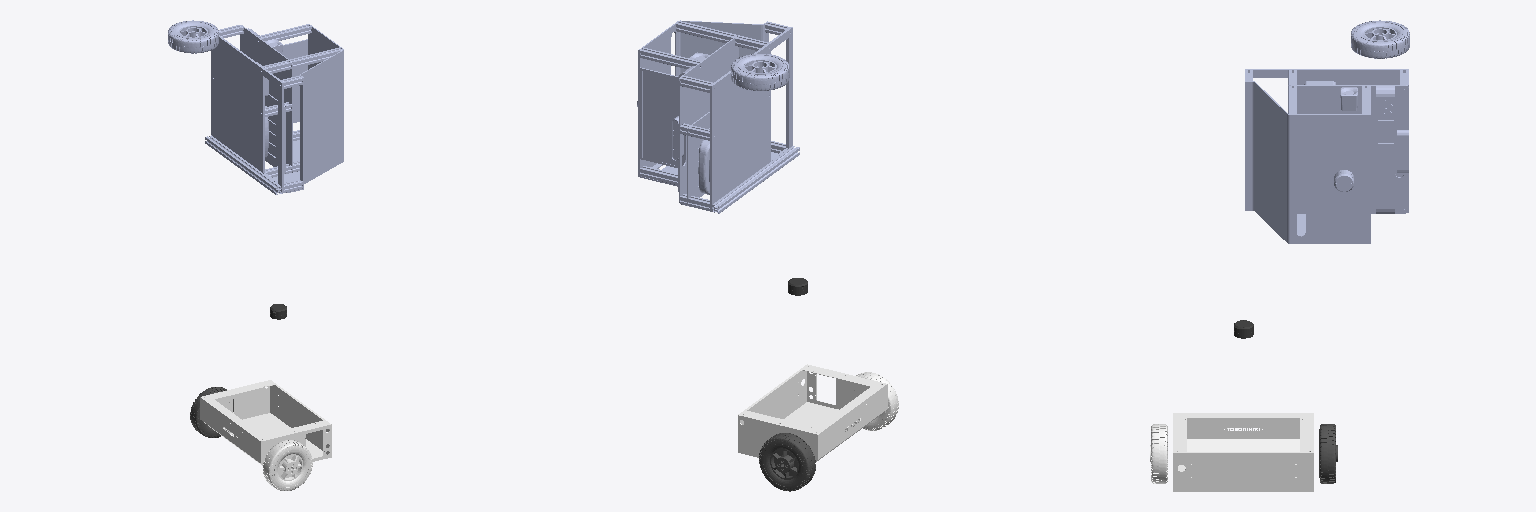
The robot description file, URDF, robot "capstone_0209_2":
<?xml version="1.0" encoding="utf-8"?>
<!-- This URDF was automatically created by SolidWorks to URDF Exporter! Originally created by [author] ([email redacted]) 
     Commit Version: 1.6.0-1-g15f4949  Build Version: 1.6.7594.29634
     For more information, please see http://wiki.ros.org/sw_urdf_exporter -->
<robot
  name="capstone_0209_2">
  <link
    name="base_footprint">
    <inertial>
      <origin
        xyz="0.000718233250103992 -0.660806871959596 0.111456433078517"
        rpy="0 0 0" />
      <mass
        value="0.712394955694314" />
      <inertia
        ixx="0.0242830224260077"
        ixy="-0.000403337009108569"
        ixz="0.000656127595395574"
        iyy="0.0132582035461794"
        iyz="-5.47726459298211E-05"
        izz="0.0327259426048953" />
    </inertial>
    <visual>
      <origin
        xyz="0 0 0"
        rpy="0 0 0" />
      <geometry>
        <mesh
          filename="package://capstone_0209_2/meshes/base_footprint.STL" />
      </geometry>
      <material
        name="">
        <color
          rgba="1 1 1 1" />
      </material>
    </visual>
    <collision>
      <origin
        xyz="0 0 0"
        rpy="0 0 0" />
      <geometry>
        <mesh
          filename="package://capstone_0209_2/meshes/base_footprint.STL" />
      </geometry>
    </collision>
  </link>
  <link
    name="base_link">
    <inertial>
      <origin
        xyz="-0.0238791749827691 -0.0185065102764362 -0.079020219576958"
        rpy="0 0 0" />
      <mass
        value="22.7007948034872" />
      <inertia
        ixx="0.223162335287752"
        ixy="-5.36786263693623E-05"
        ixz="0.000551927631217771"
        iyy="0.374073653310552"
        iyz="-0.0205701836042696"
        izz="0.234182466065195" />
    </inertial>
    <visual>
      <origin
        xyz="0 0 0"
        rpy="0 0 0" />
      <geometry>
        <mesh
          filename="package://capstone_0209_2/meshes/base_link.STL" />
      </geometry>
      <material
        name="">
        <color
          rgba="0.792156862745098 0.819607843137255 0.933333333333333 1" />
      </material>
    </visual>
    <collision>
      <origin
        xyz="0 0 0"
        rpy="0 0 0" />
      <geometry>
        <mesh
          filename="package://capstone_0209_2/meshes/base_link.STL" />
      </geometry>
    </collision>
  </link>
  <joint
    name="base_link_joint"
    type="fixed">
    <origin
      xyz="0.12294 -0.6668 0.23"
      rpy="-1.5708 0 -1.5708" />
    <parent
      link="base_footprint" />
    <child
      link="base_link" />
    <axis
      xyz="0 0 0" />
  </joint>
  <link
    name="wheel_left_link">
    <inertial>
      <origin
        xyz="3.28695976853366E-07 2.56523307373691E-07 0.0294825758438816"
        rpy="0 0 0" />
      <mass
        value="1.58056110292652" />
      <inertia
        ixx="0.00544632978806305"
        ixy="6.97161824094405E-08"
        ixz="6.70426747100936E-10"
        iyy="0.00544616005317429"
        iyz="-1.23471526254134E-09"
        izz="0.0101058657276587" />
    </inertial>
    <visual>
      <origin
        xyz="0 0 0"
        rpy="0 0 0" />
      <geometry>
        <mesh
          filename="package://capstone_0209_2/meshes/wheel_left_link.STL" />
      </geometry>
      <material
        name="">
        <color
          rgba="1 1 1 1" />
      </material>
    </visual>
    <collision>
      <origin
        xyz="0 0 0"
        rpy="0 0 0" />
      <geometry>
        <mesh
          filename="package://capstone_0209_2/meshes/wheel_left_link.STL" />
      </geometry>
    </collision>
  </link>
  <joint
    name="wheel_left_joint"
    type="fixed">
    <origin
      xyz="-0.067057 -0.9952 0.0874"
      rpy="-1.5708 -1.4506 0" />
    <parent
      link="base_footprint" />
    <child
      link="wheel_left_link" />
    <axis
      xyz="0 0 0" />
  </joint>
  <link
    name="wheel_right_link">
    <inertial>
      <origin
        xyz="3.28488709733232E-07 0.000517424126481536 2.56367615941722E-07"
        rpy="0 0 0" />
      <mass
        value="1.58056110539573" />
      <inertia
        ixx="0.00544632979855629"
        ixy="-6.77238438756456E-10"
        ixz="6.97068227175995E-08"
        iyy="0.0101058657439191"
        iyz="1.2298248008867E-09"
        izz="0.0054461600607077" />
    </inertial>
    <visual>
      <origin
        xyz="0 0 0"
        rpy="0 0 0" />
      <geometry>
        <mesh
          filename="package://capstone_0209_2/meshes/wheel_right_link.STL" />
      </geometry>
      <material
        name="">
        <color
          rgba="0.376470588235294 0.376470588235294 0.376470588235294 1" />
      </material>
    </visual>
    <collision>
      <origin
        xyz="0 0 0"
        rpy="0 0 0" />
      <geometry>
        <mesh
          filename="package://capstone_0209_2/meshes/wheel_right_link.STL" />
      </geometry>
    </collision>
  </link>
  <joint
    name="wheel_right_joint"
    type="fixed">
    <origin
      xyz="-0.067057 -0.3684 0.0874"
      rpy="0 0.07987 0" />
    <parent
      link="base_footprint" />
    <child
      link="wheel_right_link" />
    <axis
      xyz="0 0 0" />
  </joint>
  <link
    name="base_scan">
    <inertial>
      <origin
        xyz="-5.66266580590558E-05 -0.0200187113210334 0.0363485719403987"
        rpy="0 0 0" />
      <mass
        value="0.161197400528312" />
      <inertia
        ixx="7.24069589563969E-05"
        ixy="-9.79737097618776E-08"
        ixz="-2.39087138325529E-07"
        iyy="0.000101877702773367"
        iyz="6.02987510963334E-07"
        izz="7.3565738215239E-05" />
    </inertial>
    <visual>
      <origin
        xyz="0 0 0"
        rpy="0 0 0" />
      <geometry>
        <mesh
          filename="package://capstone_0209_2/meshes/base_scan.STL" />
      </geometry>
      <material
        name="">
        <color
          rgba="0.298039215686275 0.298039215686275 0.298039215686275 1" />
      </material>
    </visual>
    <collision>
      <origin
        xyz="0 0 0"
        rpy="0 0 0" />
      <geometry>
        <mesh
          filename="package://capstone_0209_2/meshes/base_scan.STL" />
      </geometry>
    </collision>
  </link>
  <joint
    name="base_scan_joint"
    type="fixed">
    <origin
      xyz="0.0252725318755981 -0.666799999999999 0.615"
      rpy="-1.5707963267949 0 -1.5707963267949" />
    <parent
      link="base_footprint" />
    <child
      link="base_scan" />
    <axis
      xyz="-1 0 0" />
  </joint>
</robot>

--- What the picture shows (computed from the rendered views, not written in the file) ---
Views: 3 orthographic renders of the robot side by side, from view 1: azimuth 30°, elevation 25°; view 2: azimuth 150°, elevation 25°; view 3: azimuth 270°, elevation 25°.
Model capstone_0209_2 with 5 links and 4 joints (4 fixed), rooted at base_footprint, posed every joint at zero.
Visible links, largest first — view 1: base_link, base_footprint, wheel_left_link, wheel_right_link; view 2: base_link, base_footprint, wheel_right_link, wheel_left_link; view 3: base_link, base_footprint, wheel_right_link, wheel_left_link.
Boxes of the visible links, box(x1,y1,x2,y2) form: base_link: box(168, 20, 343, 194); base_footprint: box(200, 380, 331, 465); wheel_left_link: box(263, 440, 312, 490); wheel_right_link: box(190, 387, 233, 437); base_link: box(637, 20, 799, 213); base_footprint: box(738, 364, 887, 461); wheel_right_link: box(759, 433, 815, 491); wheel_left_link: box(854, 372, 898, 430); base_link: box(1245, 20, 1409, 243); base_footprint: box(1173, 413, 1313, 491); wheel_right_link: box(1319, 424, 1337, 483); wheel_left_link: box(1150, 424, 1167, 483).
Bounding box of the posed robot: 0.6799 × 0.9239 × 1.76 m (x, y, z).
Meshes: 5 distinct files referenced, 5 mesh visuals loaded (5 binary STL).